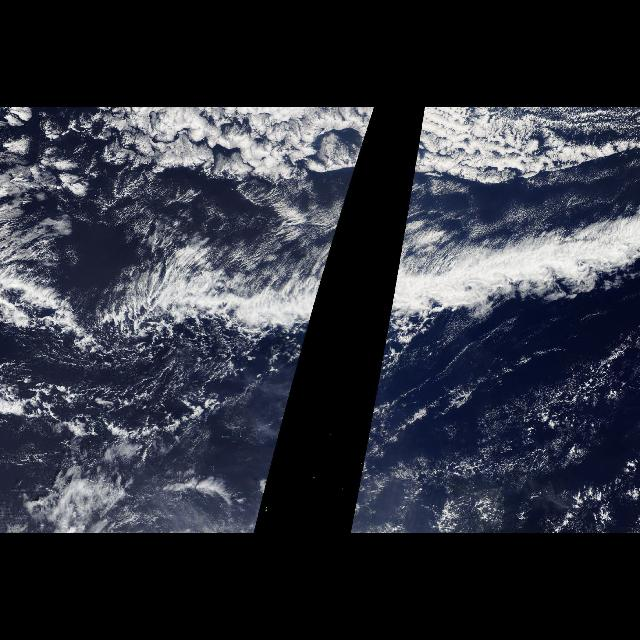Fish: (383, 212, 639, 356), (124, 212, 342, 356)
Gravel: (3, 374, 250, 458)
Sugar: (378, 328, 640, 534)
